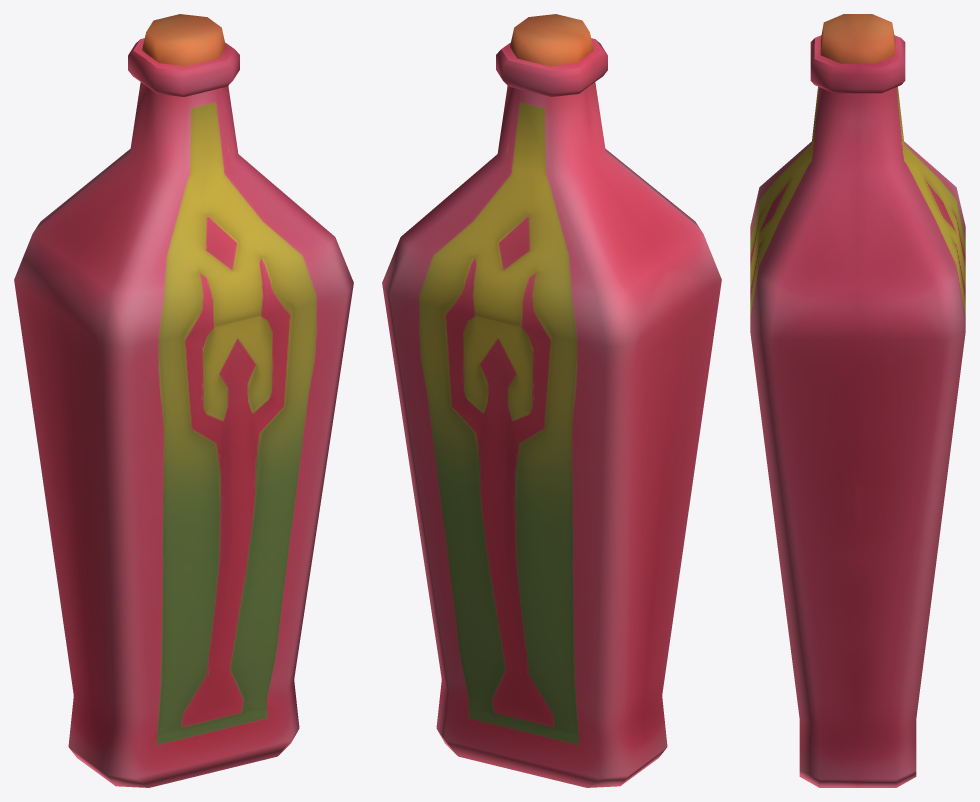
The model's file is SM_Energy.fbx.
The picture shows the model from 3 angles, left to right: view 1: azimuth 30°, elevation 25°; view 2: azimuth 150°, elevation 25°; view 3: azimuth 270°, elevation 25°; orthographic projection.
Visible parts, largest first — view 1: Energy; view 2: Energy; view 3: Energy.
Part boxes in pixels (box(x1,y1,x2,y2)): Energy: box(14, 14, 353, 787); Energy: box(382, 14, 721, 787); Energy: box(750, 14, 965, 787).
Size of the model in its own units: 24.72 by 67.65 by 18.43.
Materials: 1 (1 with a texture image).
